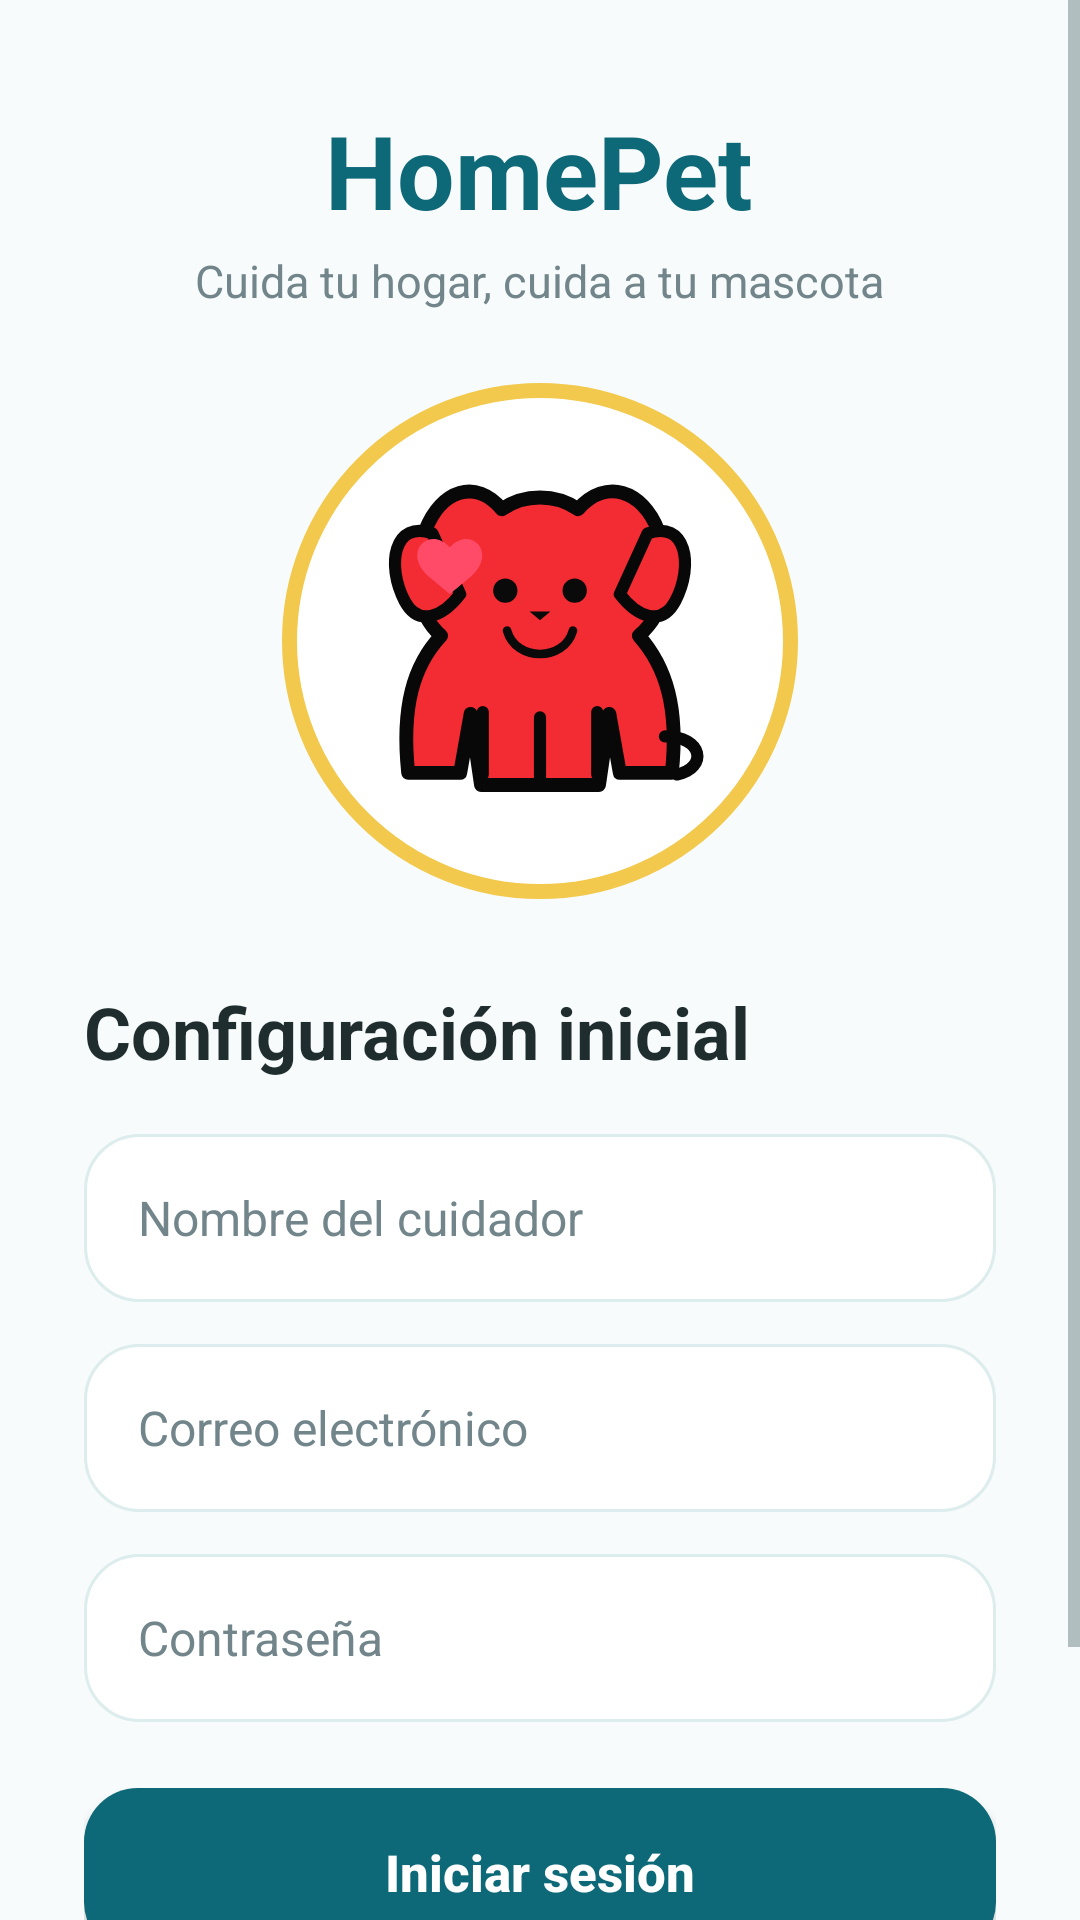

Locate icon controls on the screen. Image size 1080x1920, boxes as (x1, y1, x2, y2).
Mascota de HomePet: (389, 484, 704, 792)
